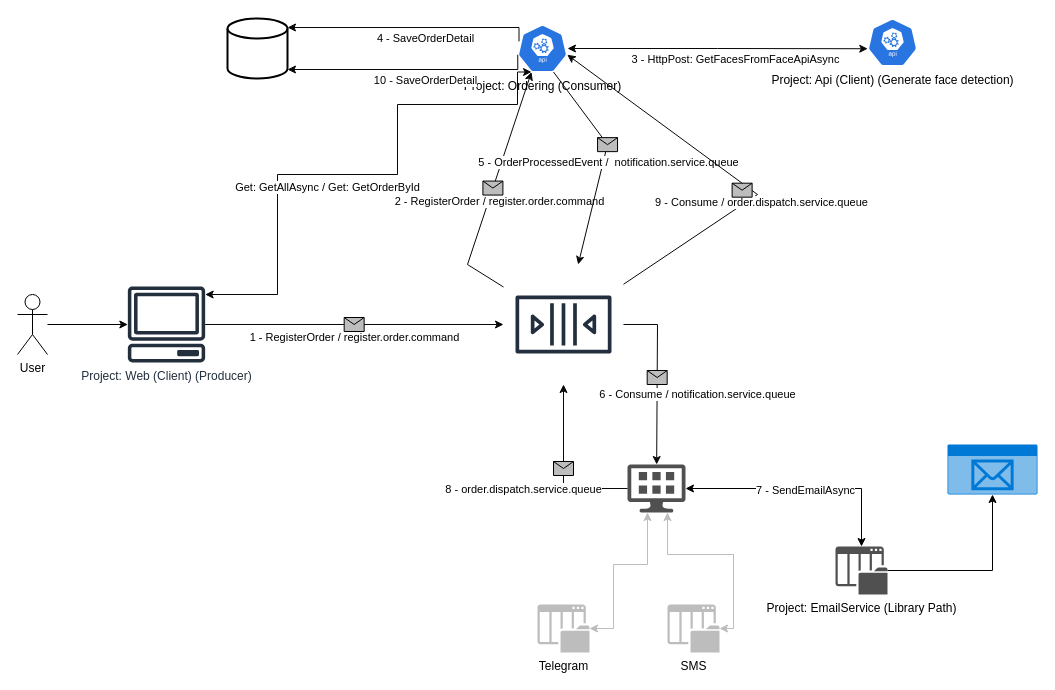
Some shapes in this 1055 by 690 pixel diagram are drawn without their labels. Here are the shapes that lost their labels. From the top down, the centre of each, then its label:
At (257,48): "Database".
At (563,324): "RabbitMQ".
At (656,488): "Project: NotificationService (Consumer)".
At (992,469): "Mail".
